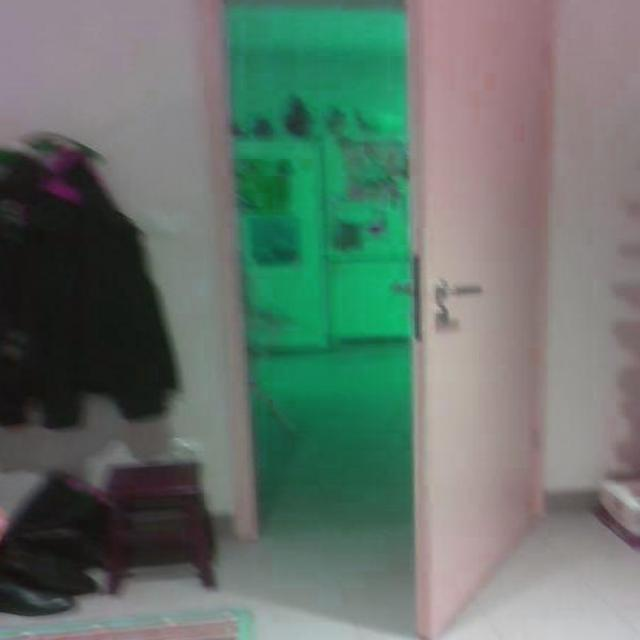door: (382, 2, 562, 628)
